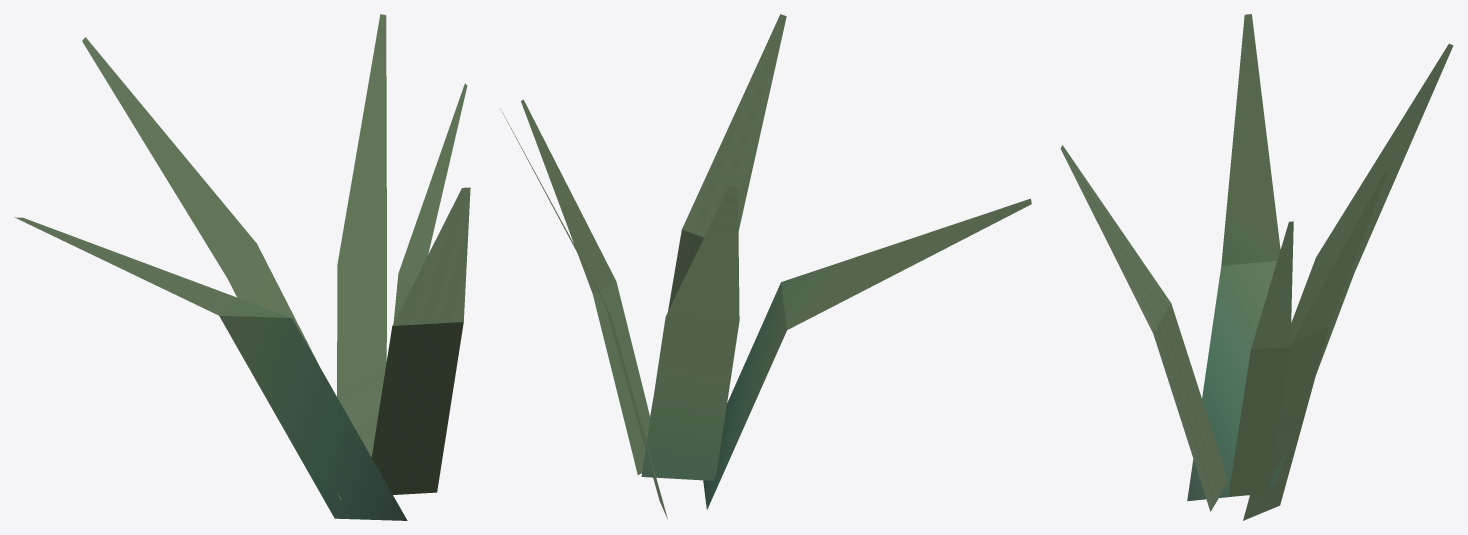
Rendered from SM_Grass_Big.fbx.
The picture shows the model from 3 angles, left to right: view 1: azimuth 30°, elevation 25°; view 2: azimuth 150°, elevation 25°; view 3: azimuth 270°, elevation 25°; orthographic projection. The views are drawn at different scales.
Parts seen in each view (by area): view 1: Plane.001; view 2: Plane.001; view 3: Plane.001.
Boxes of the visible parts, x1,y1,x2,y2 form: Plane.001: [15, 14, 470, 520]; Plane.001: [500, 14, 1031, 519]; Plane.001: [1060, 14, 1453, 520].
Bounding box in the file's own units: 103 × 90.85 × 82.09.
Materials: 1 (1 with a texture image).
